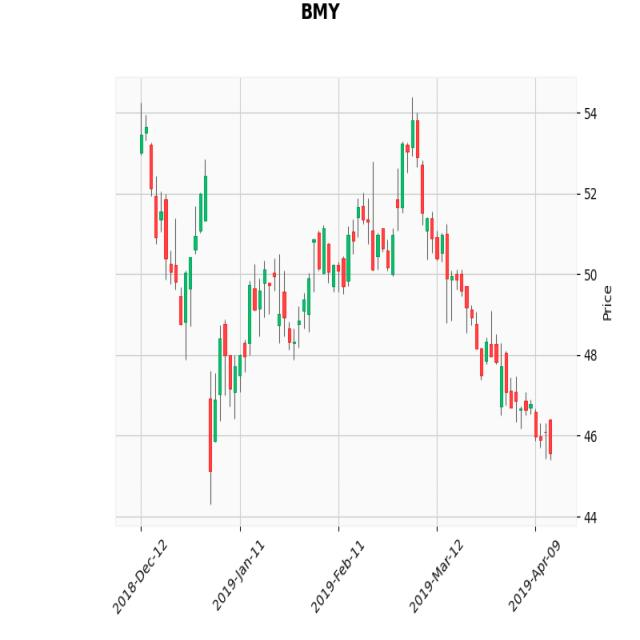Head-Shoulders: (341, 102, 468, 341)
